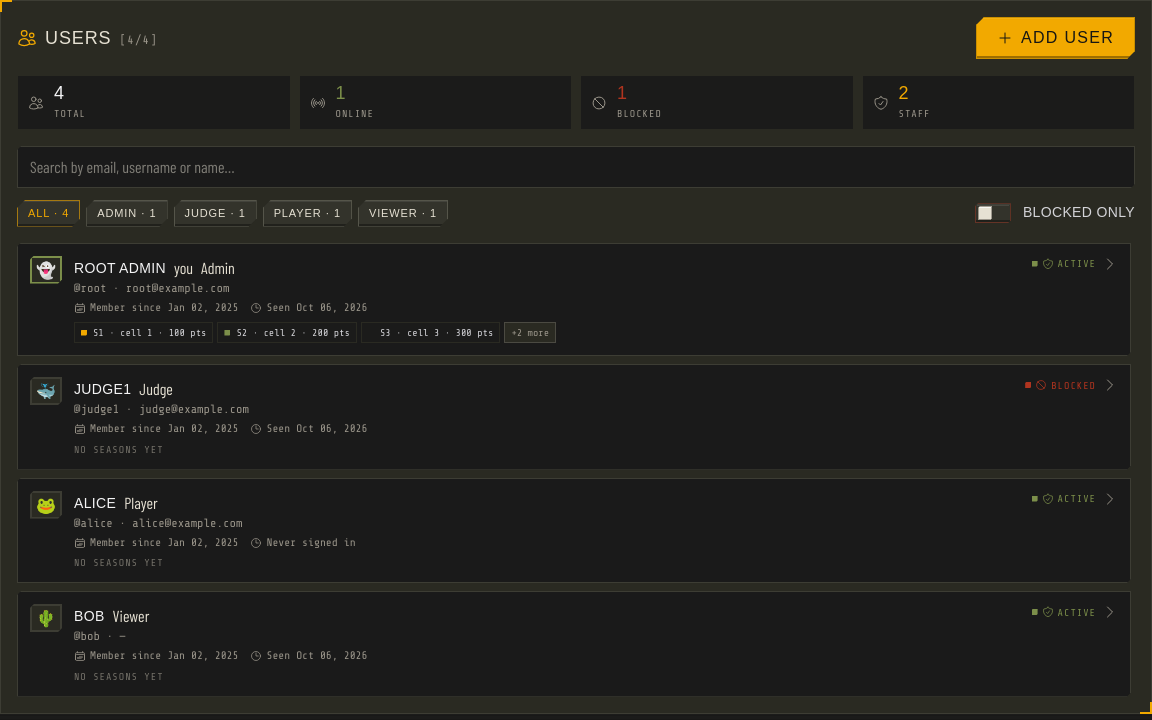
UsersManager › filters to blocked users only via the switch
What coordinates should you click on to do the following:
click the switch named "Blocked only"
I would click on:
 (993, 213)
Its box is [975,203,1011,223].
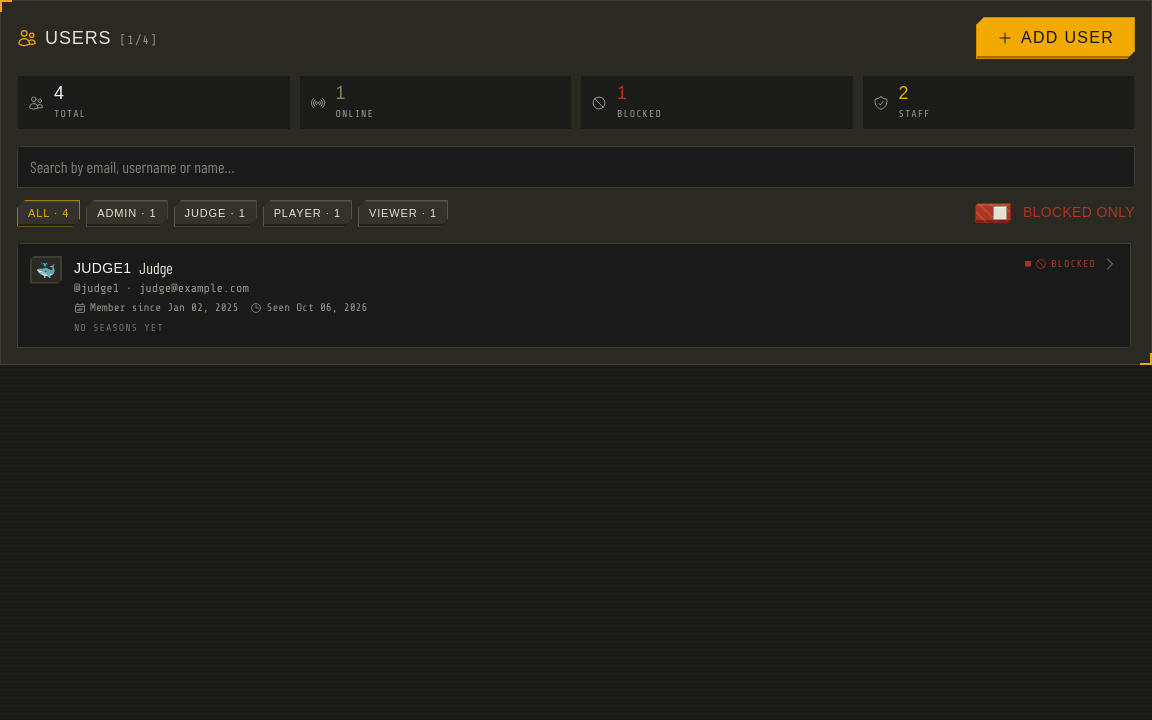
expect the text "[1/4]" is shown: met, box [120,33,158,47]
